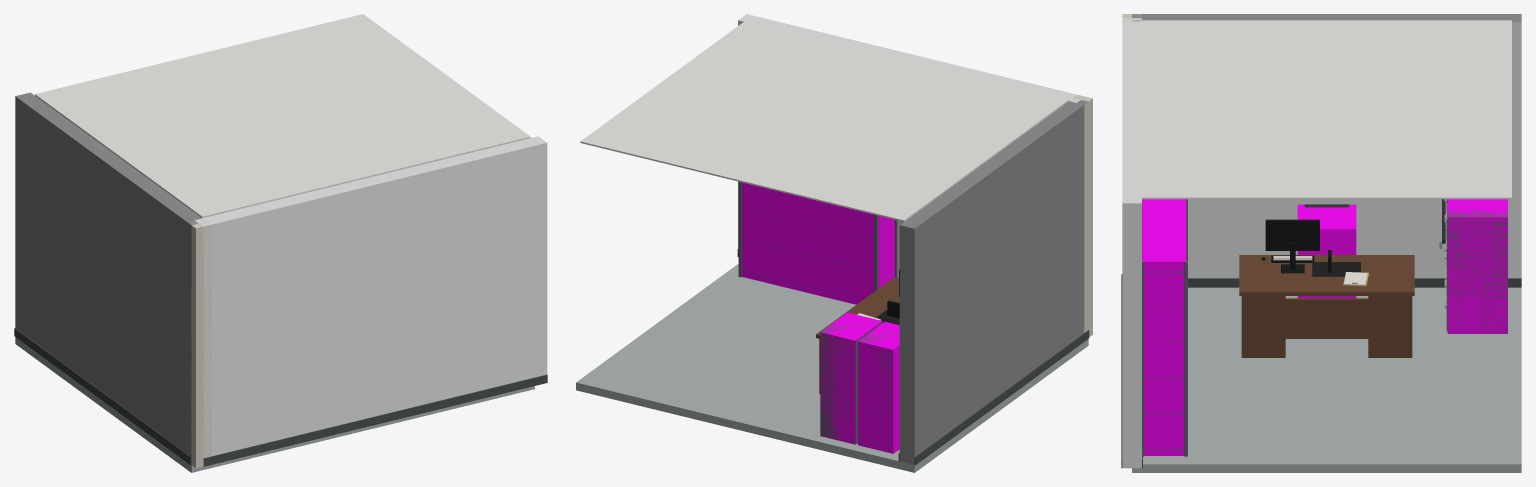
Rendered from ENV_ProtocolOffice.glb.
The picture shows the model from 3 angles, left to right: view 1: azimuth 30°, elevation 25°; view 2: azimuth 150°, elevation 25°; view 3: azimuth 270°, elevation 25°; orthographic projection. The views are drawn at different scales.
Parts seen in each view (by area): view 1: ENV_ProtocolOffice_Architecture, ENV_ProtocolOffice_Ceiling, ENV_ProtocolOffice_Posts; view 2: ENV_ProtocolOffice_Architecture, ENV_ProtocolOffice_Ceiling, PROP_Shelving_Archive_COL-colonly.003, PROP_Cabinet_Filing_4Drawer_COL-colonly.002, PROP_Cabinet_Filing_4Drawer_COL-colonly.003, PROP_Cabinet_Filing_4Drawer_Mesh.003, ENV_ProtocolOffice_Posts, PROP_Desk_Executive_Mesh, PROP_Shelving_Archive_Mesh.003, PROP_Cabinet_Filing_4Drawer_Mesh.002; view 3: ENV_ProtocolOffice_Architecture, ENV_ProtocolOffice_Ceiling, PROP_Desk_Executive_Mesh, PROP_Shelving_Archive_COL-colonly.003, PROP_Cabinet_Filing_4Drawer_COL-colonly.003, PROP_Cabinet_Filing_4Drawer_Mesh.003, PROP_Terminal_EHR_Mesh.002, PROP_Chair_Office_COL-colonly.006, PROP_Shelving_Archive_Mesh.003.
Part boxes in pixels (x1=…): ENV_ProtocolOffice_Architecture: x1=14, y1=92, x2=547, y2=472; ENV_ProtocolOffice_Ceiling: x1=35, y1=14, x2=530, y2=218; ENV_ProtocolOffice_Posts: x1=187, y1=219, x2=211, y2=467; ENV_ProtocolOffice_Architecture: x1=576, y1=14, x2=1089, y2=472; ENV_ProtocolOffice_Ceiling: x1=580, y1=20, x2=1068, y2=221; PROP_Shelving_Archive_COL-colonly.003: x1=742, y1=182, x2=894, y2=304; PROP_Cabinet_Filing_4Drawer_COL-colonly.002: x1=858, y1=321, x2=899, y2=453; PROP_Cabinet_Filing_4Drawer_COL-colonly.003: x1=820, y1=312, x2=882, y2=444; PROP_Cabinet_Filing_4Drawer_Mesh.003: x1=820, y1=321, x2=882, y2=444; ENV_ProtocolOffice_Posts: x1=1074, y1=95, x2=1092, y2=336; PROP_Desk_Executive_Mesh: x1=816, y1=277, x2=899, y2=393; PROP_Shelving_Archive_Mesh.003: x1=738, y1=182, x2=897, y2=300; PROP_Cabinet_Filing_4Drawer_Mesh.002: x1=858, y1=332, x2=898, y2=452; ENV_ProtocolOffice_Architecture: x1=1121, y1=14, x2=1521, y2=472; ENV_ProtocolOffice_Ceiling: x1=1142, y1=20, x2=1511, y2=199; PROP_Desk_Executive_Mesh: x1=1239, y1=255, x2=1414, y2=357; PROP_Shelving_Archive_COL-colonly.003: x1=1142, y1=199, x2=1186, y2=455; PROP_Cabinet_Filing_4Drawer_COL-colonly.003: x1=1447, y1=199, x2=1507, y2=333; PROP_Cabinet_Filing_4Drawer_Mesh.003: x1=1444, y1=202, x2=1507, y2=333; PROP_Terminal_EHR_Mesh.002: x1=1261, y1=219, x2=1331, y2=273; PROP_Chair_Office_COL-colonly.006: x1=1297, y1=204, x2=1356, y2=298; PROP_Shelving_Archive_Mesh.003: x1=1142, y1=199, x2=1187, y2=456.
Size of what is drawn, in the model's own units: 4.61 by 3.12 by 4.11.
